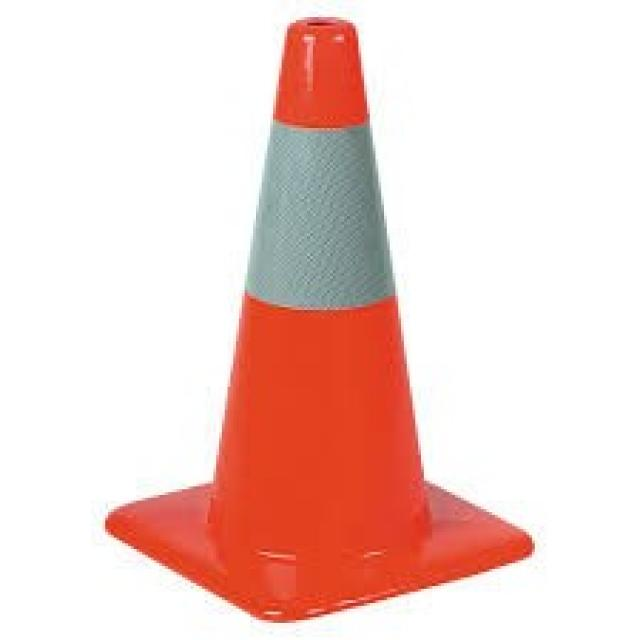Traffic-cone: (92, 0, 540, 626)
